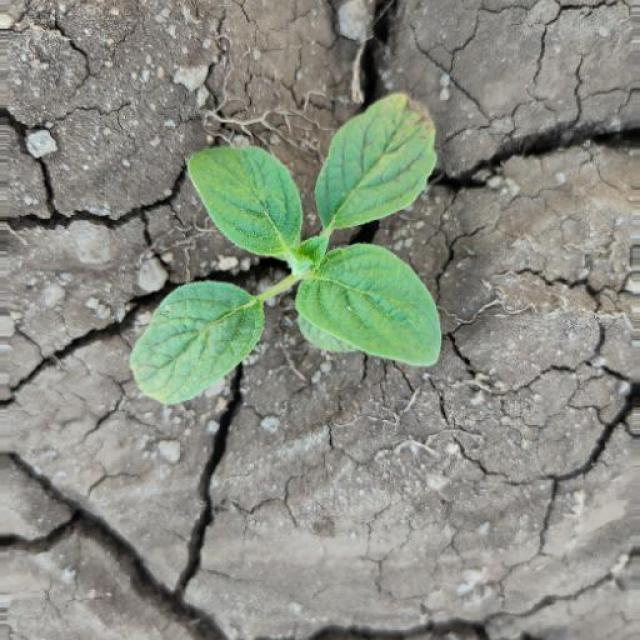crop: (116, 89, 462, 420)
